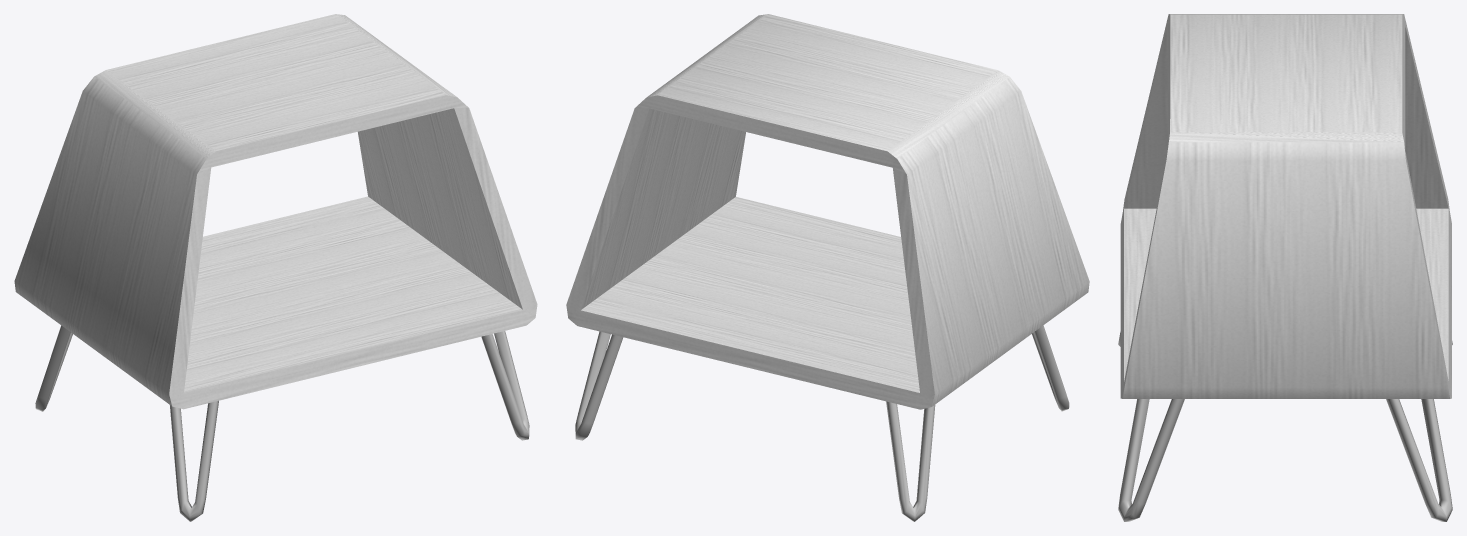
The model's file is Open_End_Table_02.FBX.
3 views of the same model, side by side, from view 1: azimuth 30°, elevation 25°; view 2: azimuth 150°, elevation 25°; view 3: azimuth 270°, elevation 25° (orthographic). The views are drawn at different scales.
Visible parts, largest first — view 1: End_table; view 2: End_table; view 3: End_table.
Boxes of the visible parts, x1=… form: End_table: x1=14, y1=14, x2=537, y2=521; End_table: x1=566, y1=14, x2=1089, y2=521; End_table: x1=1118, y1=14, x2=1452, y2=521.
Bounding box in the file's own units: 134 × 120 × 101.
